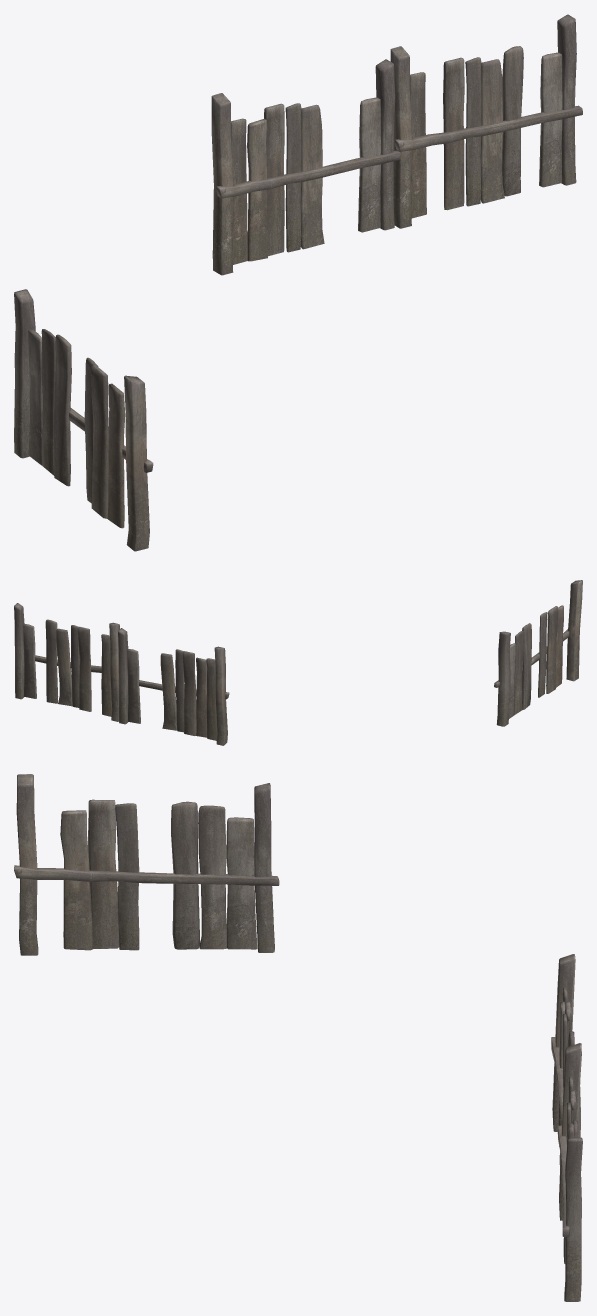
Rendered from stableseperation.glb.
3 views of the same model, one above another, from view 1: azimuth 30°, elevation 25°; view 2: azimuth 150°, elevation 25°; view 3: azimuth 270°, elevation 25° (orthographic). The views are drawn at different scales.
Parts seen in each view (by area): view 1: build_big_storage_01_fence_02, build_big_storage_01_fence_02.001; view 2: build_big_storage_01_fence_02, build_big_storage_01_fence_02.001; view 3: build_big_storage_01_fence_02.001, build_big_storage_01_fence_02.
Boxes of the visible parts, x1,y1,x2,y2 form: build_big_storage_01_fence_02: (211,14,582,275); build_big_storage_01_fence_02.001: (14,289,153,551); build_big_storage_01_fence_02: (14,603,229,745); build_big_storage_01_fence_02.001: (494,580,582,726); build_big_storage_01_fence_02.001: (14,774,279,955); build_big_storage_01_fence_02: (551,954,582,1301).
Size of the model in its own units: 13.83 by 3.24 by 9.4.
1 material, 1 textured.
